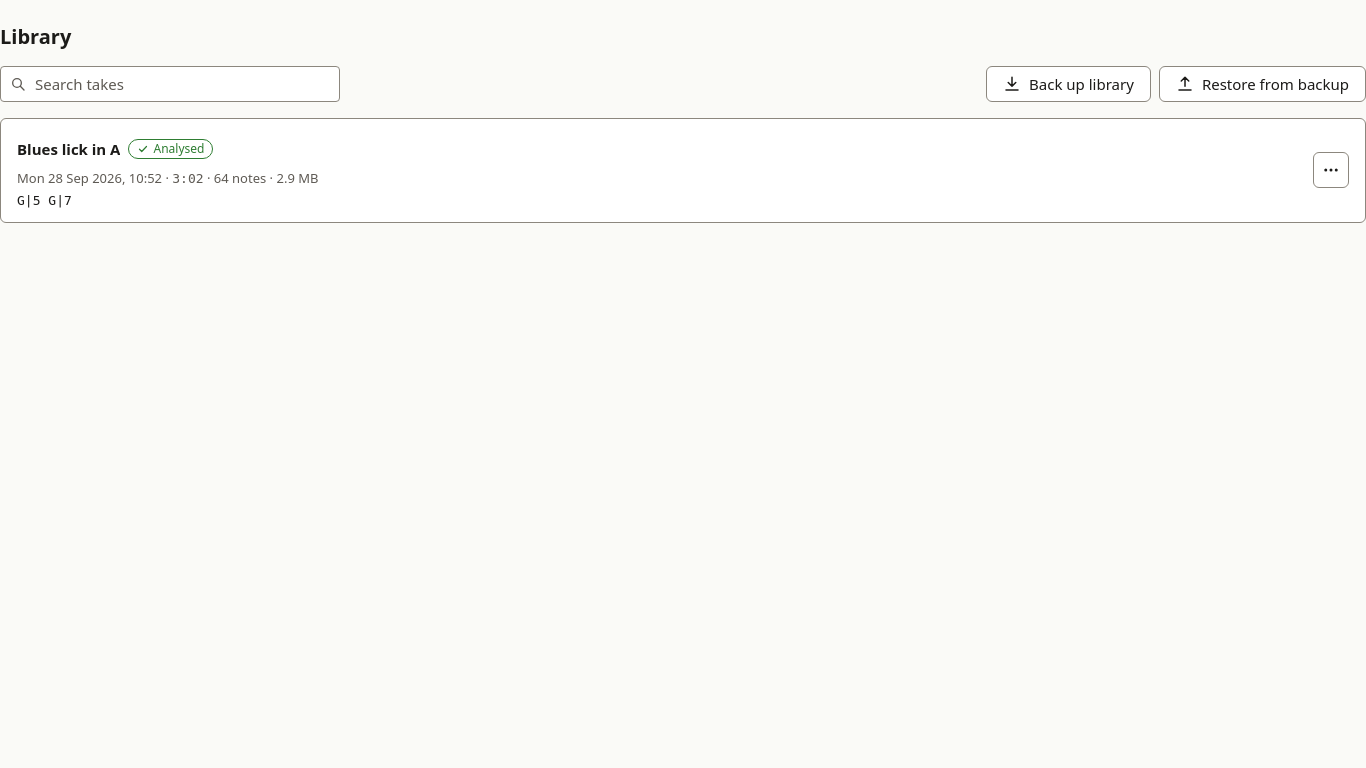
Test case: row actions › Delete take: the dialog names the take; Cancel is first and focused; Cancel and Esc change nothing
The image size is (1366, 768).
Click the button named "More actions for Blues lick in A" at x=1331, y=170, box x1=1313 y1=152 x2=1349 y2=188
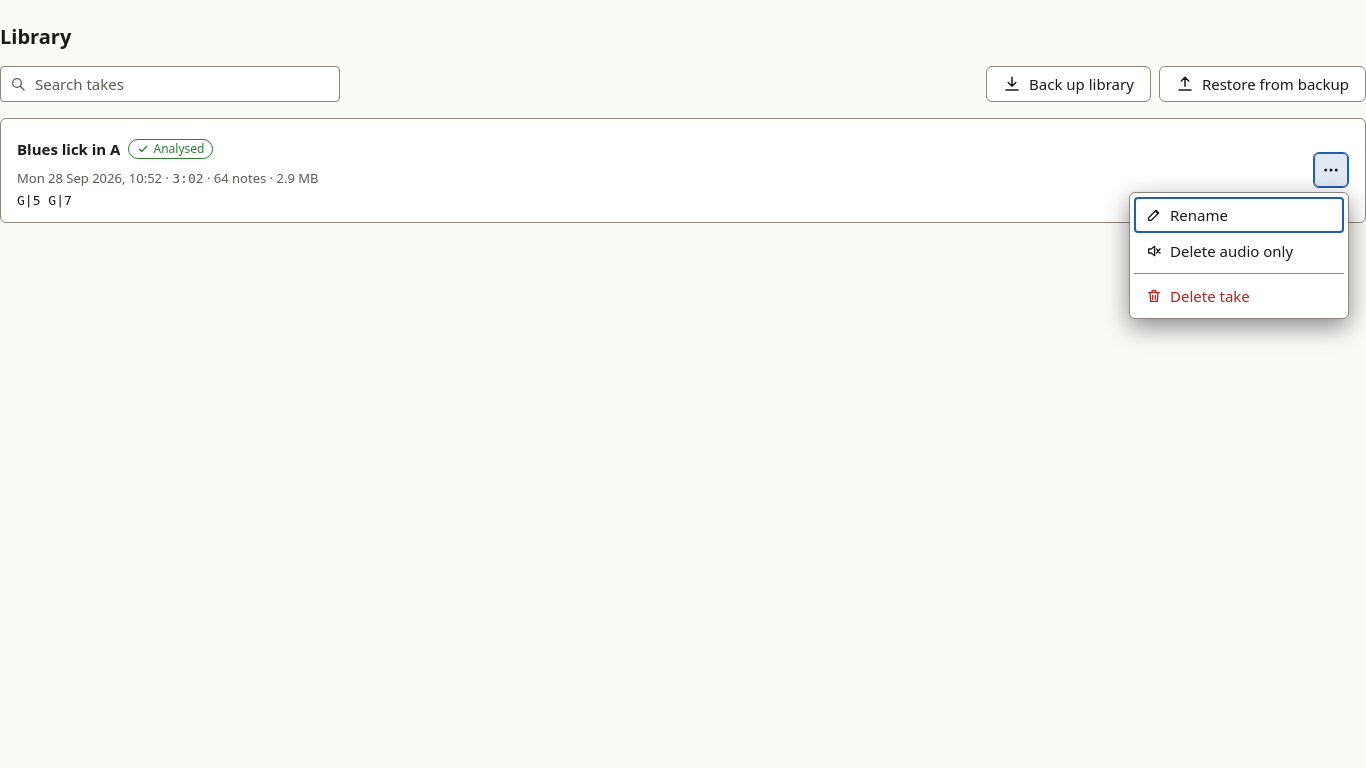
Click the menu item "Delete take" at x=1239, y=296, box x1=1134 y1=278 x2=1344 y2=314
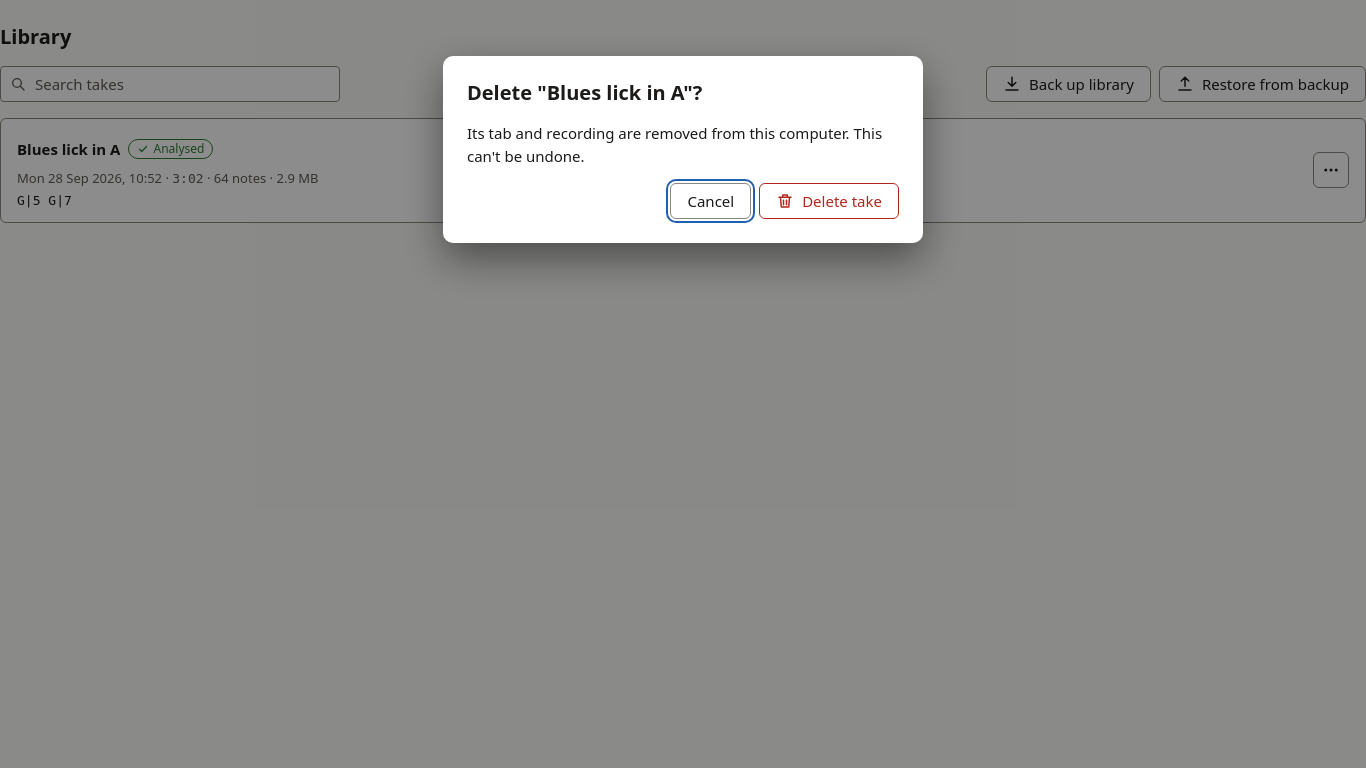
Expected: the dialog "Delete \"Blues lick in A\"?" shows "Its tab and recording are removed from this computer. This can't be undone.", x1=467 y1=123 x2=882 y2=166
Expected: the button "Cancel" is shown
Click the button "Cancel" at x=711, y=201, box x1=670 y1=183 x2=751 y2=219
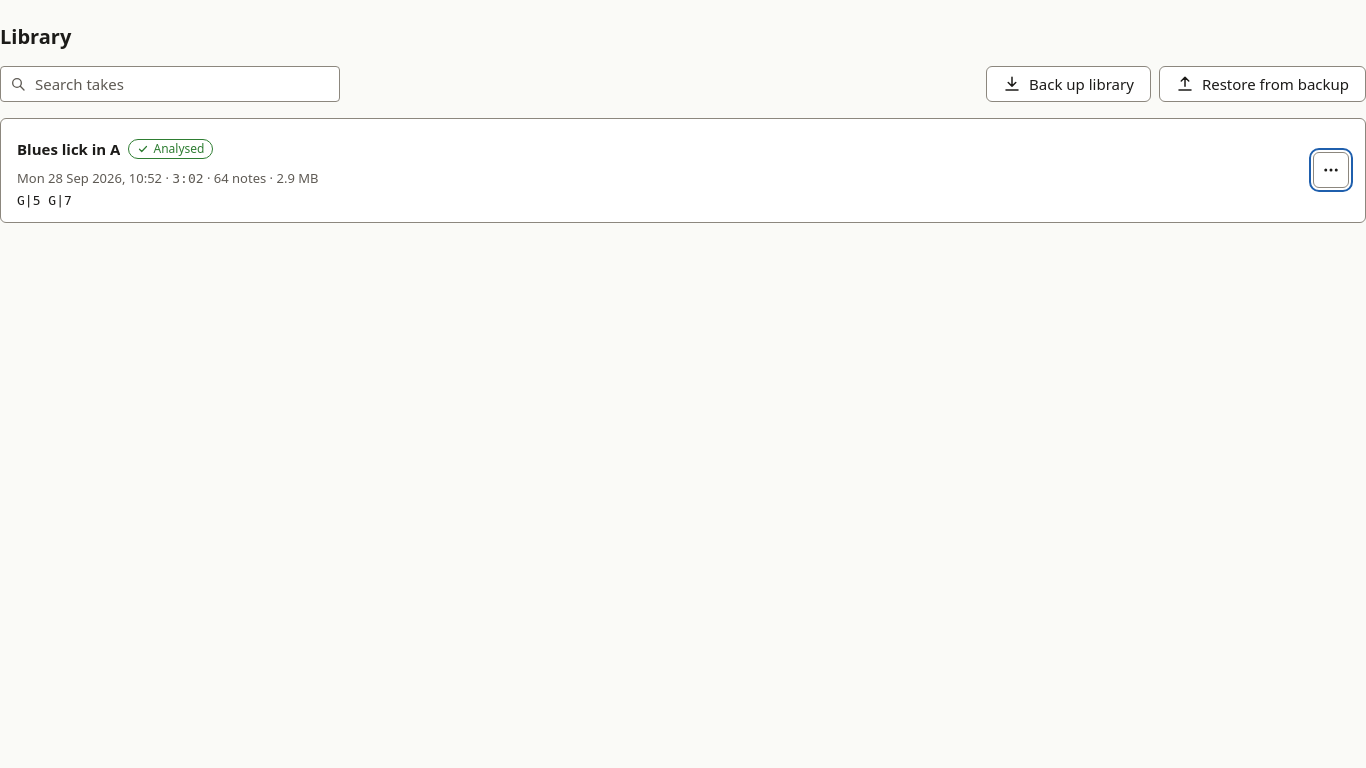
Expected: the dialog is gone
Click the button named "More actions for Blues lick in A" at x=1331, y=170, box x1=1313 y1=152 x2=1349 y2=188
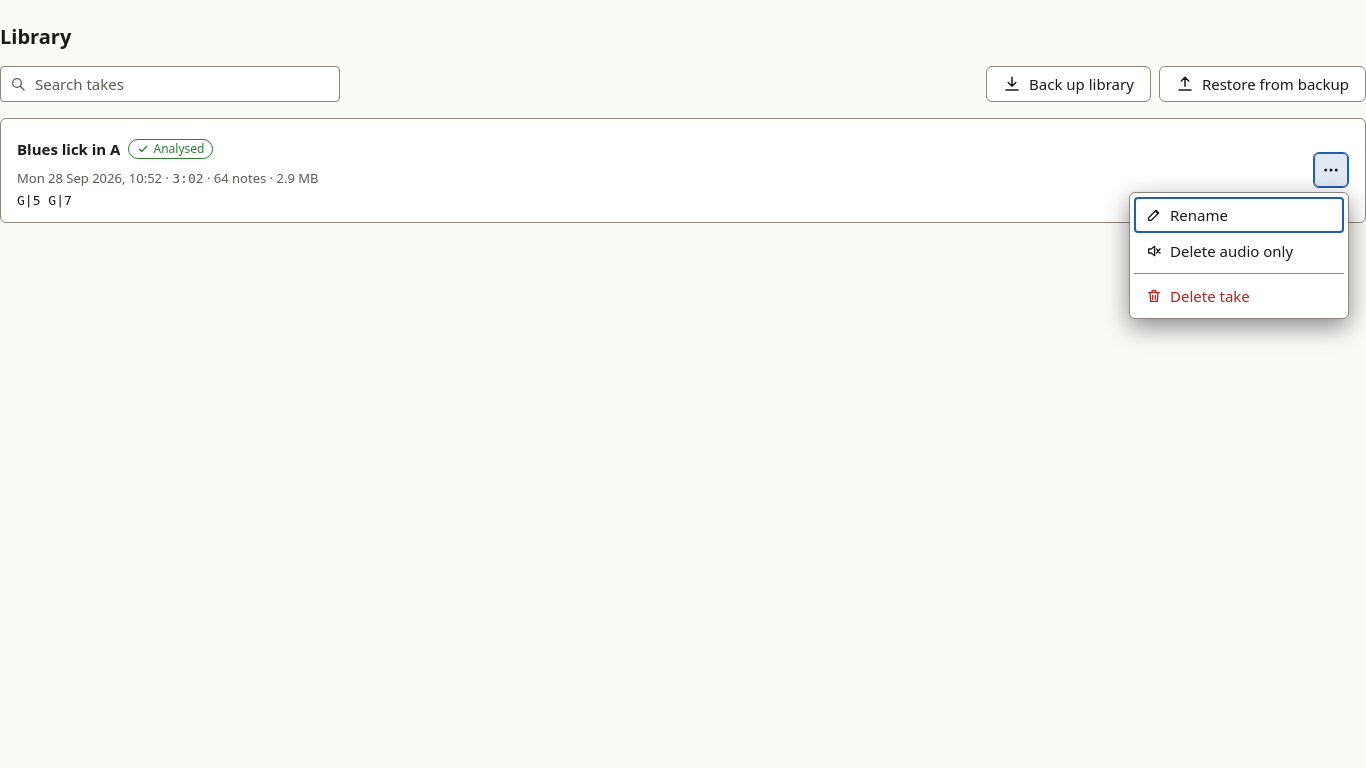
Click the menu item "Delete take" at x=1239, y=296, box x1=1134 y1=278 x2=1344 y2=314
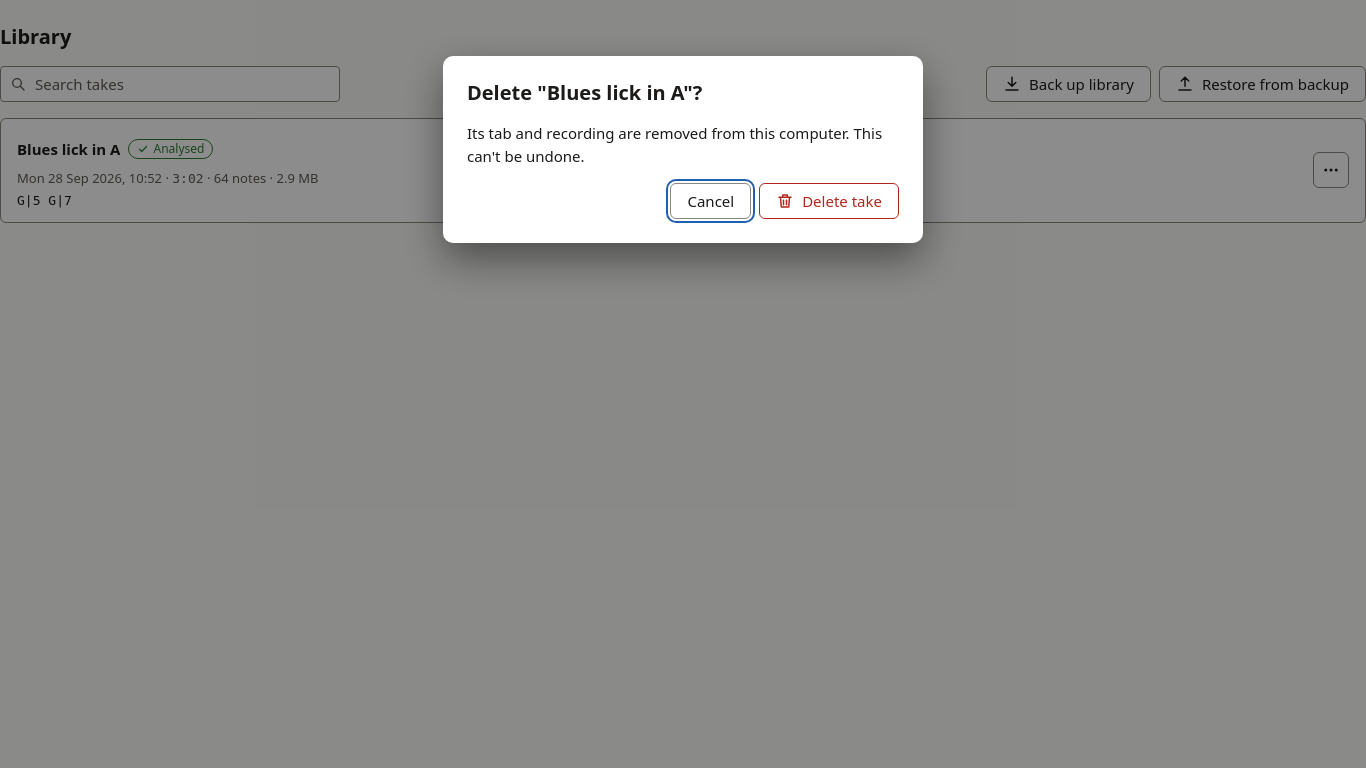
Press Escape in the button "Cancel", box x1=670 y1=183 x2=751 y2=219
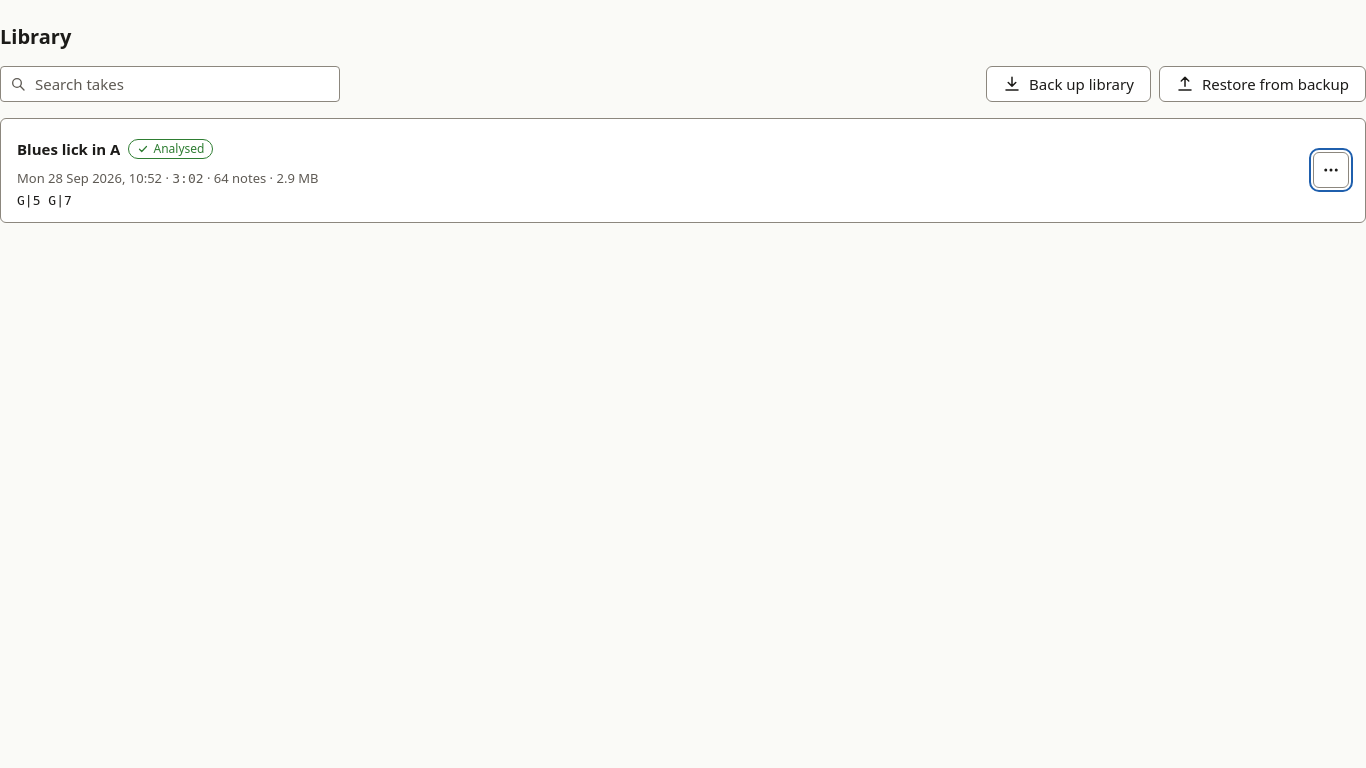
Expected: the dialog is gone
